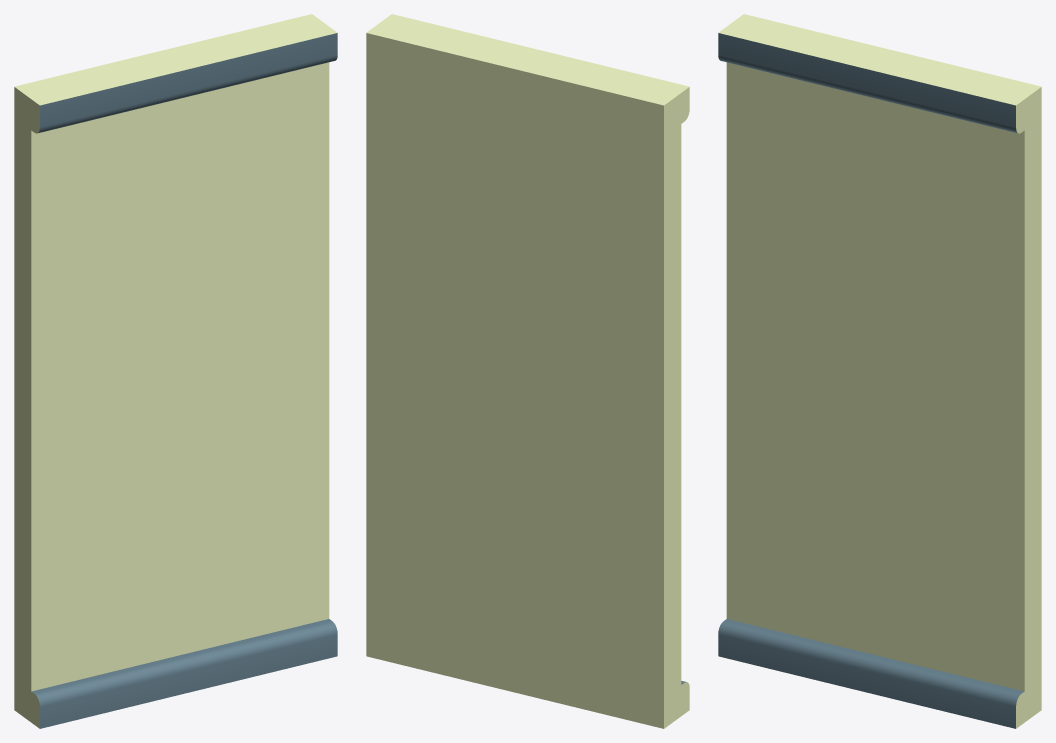
Rendered from Modular_01_Wall_1m.fbx.
3 views of the same model, side by side, from view 1: azimuth 30°, elevation 25°; view 2: azimuth 150°, elevation 25°; view 3: azimuth 330°, elevation 25° (orthographic).
Parts seen in each view (by area): view 1: Modular_01_Wall_1m; view 2: Modular_01_Wall_1m; view 3: Modular_01_Wall_1m.
Part boxes in pixels (box(x1,y1,x2,y2)): Modular_01_Wall_1m: box(14, 14, 337, 728); Modular_01_Wall_1m: box(366, 14, 689, 728); Modular_01_Wall_1m: box(718, 14, 1041, 728).
Bounding box in the file's own units: 100 × 200 × 15.
